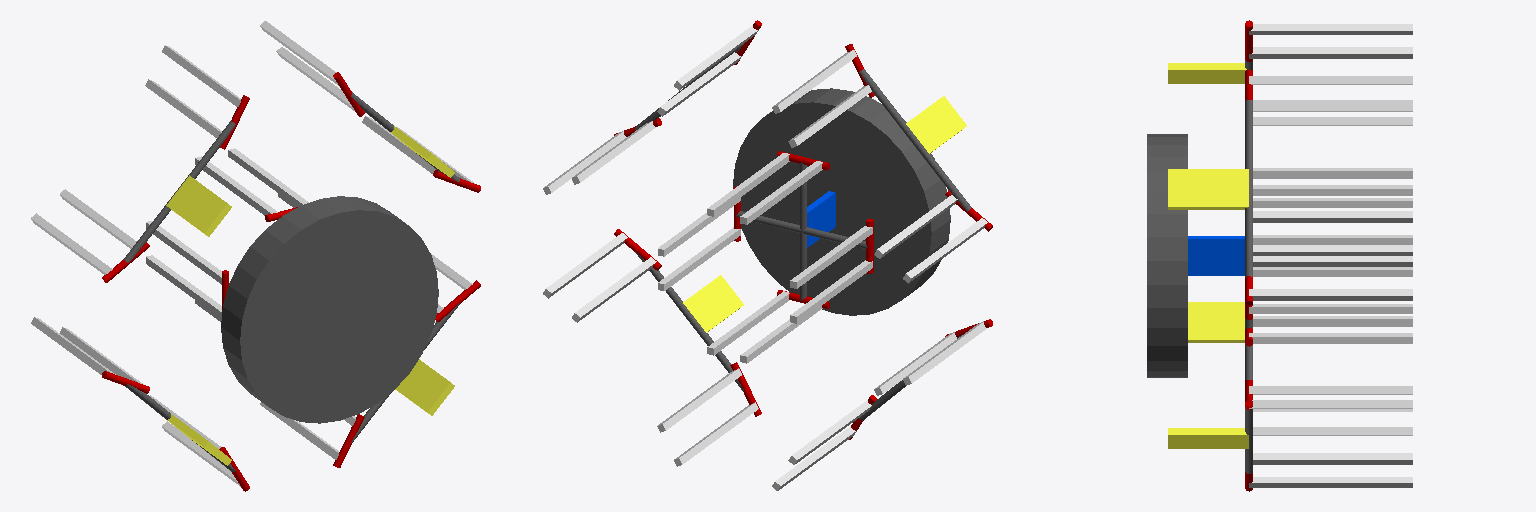
--- Facts derived from the render (not from the file) ---
Views: 3 orthographic renders of the robot side by side, from view 1: azimuth 30°, elevation 25°; view 2: azimuth 150°, elevation 25°; view 3: azimuth 270°, elevation 25°.
Robot: ur5e — 61 links, 60 joints (42 revolute, 5 prismatic, 13 fixed); root link world; default pose: all joints at 0.
Visible links, largest first — view 1: dbase_link, motor_link_2, motor_link_4, bar_link_21, parallel_11_leg1, parallel_12_leg2, parallel_12_leg1, parallel_11_leg2, parallel_22_leg2, parallel_32_leg2, parallel_21_leg1, parallel_22_leg1 (+9 smaller); view 2: dbase_link, motor_link_2, motor_link_4, bar_link_21, parallel_12_leg1, parallel_12_leg2, parallel_14_leg1, parallel_11_leg2, parallel_13_leg2, parallel_11_leg1, motor_link_1, parallel_42_leg2 (+18 smaller); view 3: dbase_link, motor_link_3, motor_link_5, motor_link_1, parallel_31_leg1, parallel_21_leg2, parallel_41_leg2, parallel_51_leg1, parallel_41_leg1, parallel_21_leg1, parallel_14_leg1, parallel_12_leg1 (+18 smaller).
Boxes of the visible links, box(x1,y1,x2,y2) form: dbase_link: box(221, 196, 438, 423); motor_link_2: box(166, 175, 231, 236); motor_link_4: box(395, 359, 454, 415); bar_link_21: box(123, 121, 235, 262); parallel_11_leg1: box(146, 255, 221, 318); parallel_12_leg2: box(228, 148, 308, 206); parallel_12_leg1: box(195, 156, 277, 215); parallel_11_leg2: box(146, 221, 221, 284); parallel_22_leg2: box(31, 213, 112, 274); parallel_32_leg2: box(260, 21, 339, 86); parallel_21_leg1: box(162, 45, 240, 106); parallel_22_leg1: box(60, 189, 136, 248); dbase_link: box(733, 88, 950, 315); motor_link_2: box(906, 96, 966, 153); motor_link_4: box(683, 275, 743, 332); bar_link_21: box(859, 69, 971, 211); parallel_12_leg1: box(740, 161, 822, 224); parallel_12_leg2: box(707, 153, 789, 216); parallel_14_leg1: box(707, 291, 789, 355); parallel_11_leg2: box(790, 226, 872, 288); parallel_13_leg2: box(658, 227, 740, 290); parallel_11_leg1: box(790, 260, 872, 323); motor_link_1: box(807, 191, 835, 247); parallel_42_leg2: box(543, 233, 627, 298); dbase_link: box(1147, 134, 1187, 377); motor_link_3: box(1168, 169, 1248, 209); motor_link_5: box(1188, 302, 1244, 342); motor_link_1: box(1188, 236, 1244, 275); parallel_31_leg1: box(1249, 289, 1412, 300); parallel_21_leg2: box(1249, 47, 1412, 58); parallel_41_leg2: box(1253, 453, 1412, 464); parallel_51_leg1: box(1253, 211, 1412, 222); parallel_41_leg1: box(1249, 477, 1412, 487); parallel_21_leg1: box(1249, 24, 1412, 34); parallel_14_leg1: box(1249, 333, 1412, 343); parallel_12_leg1: box(1253, 168, 1412, 178).
Bounding box of the posed robot: 0.114 × 0.065 × 0.114 m (x, y, z).
0 mesh visuals loaded from 7 distinct referenced files (none loaded); not drawn: 7 (reference not matched to a file when rendering).

robot.urdf — ur5e:
<?xml version="1" ?>
<!-- =================================================================================== -->
<!-- This document is combination of following:  -->

<!-- ur5e.urdf.xacro -->

 <!-- =================================================================================== -->
 <robot name="ur5e" xmlns:xacro="http://ros.org/wiki/xacro">
    <material name="black">
        <color rgba="0 0 0 1"/>
    </material>
    <material name="LightGrey">
        <color rgba="0.7 0.7 0.7 1.0"/>
    </material>
    <material name="darkgrey">
        <color rgba="0.3 0.3 0.3 1"/>
    </material>
    <material name="grey">
        <color rgba="0.5 0.5 0.5 1"/>
    </material>
    <material name="firebrick">
        <color rgba="0.545 0.102 0.102 1"/>
    </material>
    <material name="white">
        <color rgba="0.9 0.9 0.9 1"/>
    </material>
    <material  name="Black" >
     <color  rgba="0 0 0 1" />
    </material>
    <material  name="Blue" >
     <color  rgba="0.0 0.0 0.8 1.0" />
    </material>
    <material  name="Green" >
     <color  rgba="0.0 0.8 0.0 1.0" />
    </material>
    <material  name="Grey" >
     <color  rgba="0.4 0.4 0.4 1.0" />
    </material>
    <material  name="Orange" >
     <color  rgba="1.0 0.4235294117647059 0.0392156862745098 1.0" />
    </material>
    <material  name="Brown" >
     <color  rgba="0.8705882352941177 0.8117647058823529 0.7647058823529411 1.0" />
    </material>
    <material  name="Red" >
     <color  rgba="0.8 0.0 0.0 1.0" />
    </material>
    <material  name="BananaYellow" >
     <color  rgba="0.9803921568627451 0.996078431372549 0.29411764705882354 1.0" />
    </material>
    <material  name="BrightBlue" >
     <color  rgba="0.00392156862745098 0.396078431372549 0.9882352941176471 1.0" />
    </material>
    <material  name="White" >
     <color  rgba="1.0 1.0 1.0 1.0" />
    </material>
   <link name="base_link">
     <visual>
       <geometry>
         <mesh filename="ur5e_robot/collision/base.stl"/>
       </geometry>
       <material name="LightGrey">
         <color rgba="0.7 0.7 0.7 1.0"/>
       </material>
     </visual>
     <collision>
       <geometry>
         <mesh filename="ur5e_robot/collision/base.stl" scale="1.0 1.0 1.0"/>
       </geometry>
     </collision>
     <inertial>
       <mass value="4.0"/>
       <origin rpy="0 0 0" xyz="0.0 0.0 0.0"/>
       <inertia ixx="0.00443333156" ixy="0.0" ixz="0.0" iyy="0.00443333156" iyz="0.0" izz="0.0072"/>
     </inertial>
   </link>
   <joint name="shoulder_pan_joint" type="revolute">
     <parent link="base_link"/>
     <child link="shoulder_link"/>
     <origin rpy="0.0 0.0 0.0" xyz="0.0 0.0 0.163"/>
     <axis xyz="0 0 1"/>
     <limit effort="150.0" lower="-6.28318530718" upper="6.28318530718" velocity="1"/>
     <dynamics damping="0.0" friction="0.0"/>
   </joint>
   <link name="shoulder_link">
     <visual>
       <geometry>
         <mesh filename="ur5e_robot//collision//shoulder.stl"/>
       </geometry>
       <material name="darkgrey"/>
     </visual>
     <collision>
       <geometry>
         <mesh filename="ur5e_robot//collision//shoulder.stl" scale="1.0 1.0 1.0"/>
       </geometry>
     </collision>
     <inertial>
       <mass value="3.7"/>
       <origin rpy="0 0 0" xyz="0.0 0.0 0.0"/>
       <inertia ixx="0.010267495893" ixy="0.0" ixz="0.0" iyy="0.010267495893" iyz="0.0" izz="0.00666"/>
     </inertial>
   </link>
   <joint name="shoulder_lift_joint" type="revolute">
     <parent link="shoulder_link"/>
     <child link="upper_arm_link"/>
     <origin rpy="0.0 1.57079632679 0.0" xyz="0.0 0.138 0.0"/>
     <axis xyz="0 1 0"/>
     <limit effort="150.0" lower="-6.28318530718" upper="6.28318530718" velocity="1"/>
     <dynamics damping="0.0" friction="0.0"/>
   </joint>
   <link name="upper_arm_link">
     <visual>
       <geometry>
         <mesh filename="ur5e_robot//collision//upperarm.stl"/>
       </geometry>
       <material name="LightGrey"/>
     </visual>
     <collision>
       <geometry>
         <mesh filename="ur5e_robot//collision//upperarm.stl" scale="1.0 1.0 1.0"/>
       </geometry>
     </collision>
     <inertial>
       <mass value="8.393"/>
       <origin rpy="0 0 0" xyz="0.0 0.0 0.2125"/>
       <inertia ixx="0.133885781862" ixy="0.0" ixz="0.0" iyy="0.133885781862" iyz="0.0" izz="0.0151074"/>
     </inertial>
   </link>
   <joint name="elbow_joint" type="revolute">
     <parent link="upper_arm_link"/>
     <child link="forearm_link"/>
     <origin rpy="0.0 0.0 0.0" xyz="0.0 -0.131 0.425"/>
     <axis xyz="0 1 0"/>
     <limit effort="150.0" lower="-3.14159265359" upper="3.14159265359" velocity="1"/>
     <dynamics damping="0.0" friction="0.0"/>
   </joint>
   <link name="forearm_link">
     <visual>
       <geometry>
         <mesh filename="ur5e_robot//collision//forearm.stl"/>
       </geometry>
       <material name="LightGrey"/>

     </visual>
     <collision>
       <geometry>
         <mesh filename="ur5e_robot//collision//forearm.stl" scale="1.0 1.0 1.0"/>
       </geometry>
     </collision>
     <inertial>
       <mass value="2.275"/>
       <origin rpy="0 0 0" xyz="0.0 0.0 0.196"/>
       <inertia ixx="0.0311796208615" ixy="0.0" ixz="0.0" iyy="0.0311796208615" iyz="0.0" izz="0.004095"/>
     </inertial>
   </link>
   <joint name="wrist_1_joint" type="revolute">
     <parent link="forearm_link"/>
     <child link="wrist_1_link"/>
     <origin rpy="0.0 1.57079632679 0.0" xyz="0.0 0.0 0.392"/>
     <axis xyz="0 1 0"/>
     <limit effort="28.0" lower="-6.28318530718" upper="6.28318530718" velocity="1"/>
     <dynamics damping="0.0" friction="0.0"/>
   </joint>
   <link name="wrist_1_link">
     <visual>
       <geometry>
         <mesh filename="ur5e_robot//collision//wrist1.stl"/>
       </geometry>
       <material name="darkgrey"/>

     </visual>
     <collision>
       <geometry>
         <mesh filename="ur5e_robot//collision//wrist1.stl" scale="1.0 1.0 1.0"/>
       </geometry>
     </collision>
     <inertial>
       <mass value="1.219"/>
       <origin rpy="0 0 0" xyz="0.0 0.127 0.0"/>
       <inertia ixx="0.00255989897604" ixy="0.0" ixz="0.0" iyy="0.00255989897604" iyz="0.0" izz="0.0021942"/>
     </inertial>
   </link>
   <joint name="wrist_2_joint" type="revolute">
     <parent link="wrist_1_link"/>
     <child link="wrist_2_link"/>
     <origin rpy="0.0 0.0 0.0" xyz="0.0 0.127 0.0"/>
     <axis xyz="0 0 1"/>
     <limit effort="28.0" lower="-6.28318530718" upper="6.28318530718" velocity="1"/>
     <dynamics damping="0.0" friction="0.0"/>
   </joint>
   <link name="wrist_2_link">
     <visual>
       <geometry>
         <mesh filename="ur5e_robot//collision//wrist2.stl"/>
       </geometry>
       <material name="darkgrey"/>
     </visual>
     <collision>
       <geometry>
         <mesh filename="ur5e_robot//collision//wrist2.stl" scale="1.0 1.0 1.0"/>
       </geometry>
     </collision>
     <inertial>
       <mass value="1.219"/>
       <origin rpy="0 0 0" xyz="0.0 0.0 0.1"/>
       <inertia ixx="0.00255989897604" ixy="0.0" ixz="0.0" iyy="0.00255989897604" iyz="0.0" izz="0.0021942"/>
     </inertial>
   </link>
   <joint name="wrist_3_joint" type="revolute">
     <parent link="wrist_2_link"/>
     <child link="wrist_3_link"/>
     <origin rpy="0.0 0.0 0.0" xyz="0.0 0.0 0.1"/>
     <axis xyz="0 1 0"/>
     <limit effort="28.0" lower="-6.28318530718" upper="6.28318530718" velocity="1"/>
     <dynamics damping="0.0" friction="0.0"/>
   </joint>
   <link name="wrist_3_link">
     <visual>
       <geometry>
         <mesh filename="ur5e_robot//collision//wrist3.stl"/>
       </geometry>
       <material name="LightGrey"/>
     </visual>
     <collision>
       <geometry>
         <mesh filename="ur5e_robot//collision//wrist3.stl" scale="1.0 1.0 1.0"/>
       </geometry>
     </collision>
     <inertial>
       <mass value="0.1879"/>
       <origin rpy="1.57079632679 0 0" xyz="0.0 0.0771 0.0"/>
       <inertia ixx="9.89041005217e-05" ixy="0.0" ixz="0.0" iyy="9.89041005217e-05" iyz="0.0" izz="0.0001321171875"/>
     </inertial>
   </link>
   <joint name="ee_link" type="fixed">
     <parent link="wrist_3_link"/>
     <child link="ee_link"/>
     <origin rpy="0.0 0.0 1.57079632679" xyz="0.0 0.1 0.0"/>
   </joint>
   <link name="ee_link">
     <collision>
       <geometry>
         <box size="0.01 0.01 0.01"/>
       </geometry>
       <origin rpy="0 0 0" xyz="-0.01 0 0"/>
     </collision>
   </link>
   <transmission name="shoulder_pan_trans">
     <type>transmission_interface/SimpleTransmission</type>
     <joint name="shoulder_pan_joint">
       <hardwareInterface>hardware_interface/PositionJointInterface</hardwareInterface>
     </joint>
     <actuator name="shoulder_pan_motor">
       <mechanicalReduction>1</mechanicalReduction>
     </actuator>
   </transmission>
   <transmission name="shoulder_lift_trans">
     <type>transmission_interface/SimpleTransmission</type>
     <joint name="shoulder_lift_joint">
       <hardwareInterface>hardware_interface/PositionJointInterface</hardwareInterface>
     </joint>
     <actuator name="shoulder_lift_motor">
       <mechanicalReduction>1</mechanicalReduction>
     </actuator>
   </transmission>
   <transmission name="elbow_trans">
     <type>transmission_interface/SimpleTransmission</type>
     <joint name="elbow_joint">
       <hardwareInterface>hardware_interface/PositionJointInterface</hardwareInterface>
     </joint>
     <actuator name="elbow_motor">
       <mechanicalReduction>1</mechanicalReduction>
     </actuator>
   </transmission>
   <transmission name="wrist_1_trans">
     <type>transmission_interface/SimpleTransmission</type>
     <joint name="wrist_1_joint">
       <hardwareInterface>hardware_interface/PositionJointInterface</hardwareInterface>
     </joint>
     <actuator name="wrist_1_motor">
       <mechanicalReduction>1</mechanicalReduction>
     </actuator>
   </transmission>
   <transmission name="wrist_2_trans">
     <type>transmission_interface/SimpleTransmission</type>
     <joint name="wrist_2_joint">
       <hardwareInterface>hardware_interface/PositionJointInterface</hardwareInterface>
     </joint>
     <actuator name="wrist_2_motor">
       <mechanicalReduction>1</mechanicalReduction>
     </actuator>
   </transmission>
   <transmission name="wrist_3_trans">
     <type>transmission_interface/SimpleTransmission</type>
     <joint name="wrist_3_joint">
       <hardwareInterface>hardware_interface/PositionJointInterface</hardwareInterface>
     </joint>
     <actuator name="wrist_3_motor">
       <mechanicalReduction>1</mechanicalReduction>
     </actuator>
   </transmission>
   <gazebo reference="shoulder_link">
     <selfCollide>true</selfCollide>
   </gazebo>
   <gazebo reference="upper_arm_link">
     <selfCollide>true</selfCollide>
   </gazebo>
   <gazebo reference="forearm_link">
     <selfCollide>true</selfCollide>
   </gazebo>
   <gazebo reference="wrist_1_link">
     <selfCollide>true</selfCollide>
   </gazebo>
   <gazebo reference="wrist_3_link">
     <selfCollide>true</selfCollide>
   </gazebo>
   <gazebo reference="wrist_2_link">
     <selfCollide>true</selfCollide>
   </gazebo>
   <gazebo reference="ee_link">
     <selfCollide>true</selfCollide>
   </gazebo>
   <!-- ROS base_link to UR 'Base' Coordinates transform -->
   <link name="base"/>
   <joint name="base_link-base_fixed_joint" type="fixed">
     <!-- NOTE: this rotation is only needed as long as base_link itself is
                  not corrected wrt the real robot (ie: rotated over 180
                  degrees)
       -->
     <origin rpy="0 0 -3.14159265359" xyz="0 0 0"/>
     <parent link="base_link"/>
     <child link="base"/>
   </joint>
   <!-- Frame coincident with all-zeros TCP on UR controller -->
   <link name="tool0"/>
   <joint name="wrist_3_link-tool0_fixed_joint" type="fixed">
     <origin rpy="-1.57079632679 0 0" xyz="0 0.1 0"/>
     <parent link="wrist_3_link"/>
     <child link="tool0"/>
   </joint>
   <link name="world"/>
   <joint name="world_joint" type="fixed">
     <parent link="world"/>
     <child link="base_link"/>
     <origin rpy="0.0 0.0 0.0" xyz="0.0 0.0 0.0"/>
   </joint>

   <!-- delta.urdf -->
   <joint  type="fixed"  name="base_joint" >
    <parent  link="ee_link" />
    <child  link="dbase_link" />
    <origin  rpy="0 1.57079632679 0"  xyz="0 0.0 0" />
   </joint>
   <link  name="dbase_link" >
    <inertial >
     <mass  value="0.01" />
     <inertia  iyz="0.0"  iyy="0.001"  ixx="0.001"  ixz="0.0"  izz="0.001"  ixy="0.0" />
    </inertial>
    <visual >
     <origin  rpy="0 0 0"  xyz="0 0 0" />
     <geometry >
      <cylinder  radius="0.03"  length="0.01" />
     </geometry>
     <material  name="Grey" />
    </visual>
    <collision >
     <origin  rpy="0 0 0"  xyz="0 0 0" />
     <geometry >
      <cylinder  radius="0.03"  length="0.01" />
     </geometry>
     <material  name="Grey" />
    </collision>
   </link>
   <joint  name="motor_joint_1"  type="prismatic" >
    <axis  xyz="0 0 1" />
    <limit  velocity="1"  effort="100"  lower="0.0"  upper="0.1" />
    <parent  link="dbase_link" />
    <child  link="motor_link_1" />
    <origin  rpy="0 0 0"  xyz="0 0 0" />
   </joint>
   <link  name="motor_link_1" >
    <inertial >
     <mass  value="0.01" />
     <inertia  iyz="0.0"  iyy="0.001"  ixx="0.001"  ixz="0.0"  izz="0.001"  ixy="0.0" />
    </inertial>
    <visual >
     <origin  rpy="0 0 0"  xyz="0 0 0.01" />
     <geometry >
      <box  size="0.01 0.002 0.02" />
     </geometry>
     <material  name="BrightBlue" />
    </visual>
    <collision >
     <origin  rpy="0 0 0"  xyz="0 0 0.01" />
     <geometry >
      <box  size="0.01 0.002 0.02" />
     </geometry>
     <material  name="BrightBlue" />
    </collision>
   </link>
   <joint  name="motor_joint_2"  type="prismatic" >
    <axis  xyz="0 0 1" />
    <limit  velocity="1"  effort="100"  lower="0.0"  upper="0.1" />
    <parent  link="dbase_link" />
    <child  link="motor_link_2" />
    <origin  rpy="0 0 -2.356194490192345"  xyz="0.03366025403784439 -0.03366025403784439 0.0" />
   </joint>
   <link  name="motor_link_2" >
    <inertial >
     <mass  value="0.01" />
     <inertia  iyz="0.0"  iyy="0.001"  ixx="0.001"  ixz="0.0"  izz="0.001"  ixy="0.0" />
    </inertial>
    <visual >
     <origin  rpy="0 0 0"  xyz="0 0 0.01" />
     <geometry >
      <box  size="0.01 0.002 0.02" />
     </geometry>
     <material  name="BananaYellow" />
    </visual>
    <collision >
     <origin  rpy="0 0 0"  xyz="0 0 0.01" />
     <geometry >
      <box  size="0.01 0.002 0.02" />
     </geometry>
     <material  name="BananaYellow" />
    </collision>
   </link>
   <joint  name="motor_joint_3"  type="prismatic" >
    <axis  xyz="0 0 1" />
    <limit  velocity="1"  effort="100"  lower="0.0"  upper="0.1" />
    <parent  link="dbase_link" />
    <child  link="motor_link_3" />
    <origin  rpy="0 0 -0.7853981633974483"  xyz="0.03366025403784439 0.03366025403784439 0.0" />
   </joint>
   <link  name="motor_link_3" >
    <inertial >
     <mass  value="0.01" />
     <inertia  iyz="0.0"  iyy="0.001"  ixx="0.001"  ixz="0.0"  izz="0.001"  ixy="0.0" />
    </inertial>
    <visual >
     <origin  rpy="0 0 0"  xyz="0 0 0.01" />
     <geometry >
      <box  size="0.01 0.002 0.02" />
     </geometry>
     <material  name="BananaYellow" />
    </visual>
    <collision >
     <origin  rpy="0 0 0"  xyz="0 0 0.01" />
     <geometry >
      <box  size="0.01 0.002 0.02" />
     </geometry>
     <material  name="BananaYellow" />
    </collision>
   </link>
   <joint  name="motor_joint_4"  type="prismatic" >
    <axis  xyz="0 0 1" />
    <limit  velocity="1"  effort="100"  lower="0.0"  upper="0.1" />
    <parent  link="dbase_link" />
    <child  link="motor_link_4" />
    <origin  rpy="0 0 0.7853981633974483"  xyz="-0.03366025403784439 0.03366025403784439 0.0" />
   </joint>
   <link  name="motor_link_4" >
    <inertial >
     <mass  value="0.01" />
     <inertia  iyz="0.0"  iyy="0.001"  ixx="0.001"  ixz="0.0"  izz="0.001"  ixy="0.0" />
    </inertial>
    <visual >
     <origin  rpy="0 0 0"  xyz="0 0 0.01" />
     <geometry >
      <box  size="0.01 0.002 0.02" />
     </geometry>
     <material  name="BananaYellow" />
    </visual>
    <collision >
     <origin  rpy="0 0 0"  xyz="0 0 0.01" />
     <geometry >
      <box  size="0.01 0.002 0.02" />
     </geometry>
     <material  name="BananaYellow" />
    </collision>
   </link>
   <joint  name="motor_joint_5"  type="prismatic" >
    <axis  xyz="0 0 1" />
    <limit  velocity="1"  effort="100"  lower="0.0"  upper="0.1" />
    <parent  link="dbase_link" />
    <child  link="motor_link_5" />
    <origin  rpy="0 0 2.356194490192345"  xyz="-0.03366025403784439 -0.03366025403784439 0.0" />
   </joint>
   <link  name="motor_link_5" >
    <inertial >
     <mass  value="0.01" />
     <inertia  iyz="0.0"  iyy="0.001"  ixx="0.001"  ixz="0.0"  izz="0.001"  ixy="0.0" />
    </inertial>
    <visual >
     <origin  rpy="0 0 0"  xyz="0 0 0.01" />
     <geometry >
      <box  size="0.01 0.002 0.02" />
     </geometry>
     <material  name="BananaYellow" />
    </visual>
    <collision >
     <origin  rpy="0 0 0"  xyz="0 0 0.01" />
     <geometry >
      <box  size="0.01 0.002 0.02" />
     </geometry>
     <material  name="BananaYellow" />
    </collision>
   </link>
   <joint  name="bar_joint_1"  type="fixed" >
    <parent  link="motor_link_1" />
    <child  link="bar_link_1" />
    <origin  rpy="1.5707963267948966 0 0.0"  xyz="0 0 0.02" />
   </joint>
   <link  name="bar_link_1" >
    <inertial >
     <mass  value="0.01" />
     <inertia  iyz="0.0"  iyy="0.001"  ixx="0.001"  ixz="0.0"  izz="0.001"  ixy="0.0" />
    </inertial>
    <visual >
     <origin  rpy="0 0 0"  xyz="0 0 0.01" />
     <geometry >
      <cylinder  radius="0.001"  length="0.02" />
     </geometry>
     <material  name="Grey" />
    </visual>
    <collision >
     <origin  rpy="0 0 0"  xyz="0 0 0.01" />
     <geometry >
      <cylinder  radius="0.001"  length="0.02" />
     </geometry>
     <material  name="Grey" />
    </collision>
   </link>
   <joint  name="bar_joint_2"  type="fixed" >
    <parent  link="motor_link_1" />
    <child  link="bar_link_2" />
    <origin  rpy="1.5707963267948966 0 1.5707963267948966"  xyz="0 0 0.02" />
   </joint>
   <link  name="bar_link_2" >
    <inertial >
     <mass  value="0.01" />
     <inertia  iyz="0.0"  iyy="0.001"  ixx="0.001"  ixz="0.0"  izz="0.001"  ixy="0.0" />
    </inertial>
    <visual >
     <origin  rpy="0 0 0"  xyz="0 0 0.01" />
     <geometry >
      <cylinder  radius="0.001"  length="0.02" />
     </geometry>
     <material  name="Grey" />
    </visual>
    <collision >
     <origin  rpy="0 0 0"  xyz="0 0 0.01" />
     <geometry >
      <cylinder  radius="0.001"  length="0.02" />
     </geometry>
     <material  name="Grey" />
    </collision>
   </link>
   <joint  name="bar_joint_3"  type="fixed" >
    <parent  link="motor_link_1" />
    <child  link="bar_link_3" />
    <origin  rpy="1.5707963267948966 0 3.141592653589793"  xyz="0 0 0.02" />
   </joint>
   <link  name="bar_link_3" >
    <inertial >
     <mass  value="0.01" />
     <inertia  iyz="0.0"  iyy="0.001"  ixx="0.001"  ixz="0.0"  izz="0.001"  ixy="0.0" />
    </inertial>
    <visual >
     <origin  rpy="0 0 0"  xyz="0 0 0.01" />
     <geometry >
      <cylinder  radius="0.001"  length="0.02" />
     </geometry>
     <material  name="Grey" />
    </visual>
    <collision >
     <origin  rpy="0 0 0"  xyz="0 0 0.01" />
     <geometry >
      <cylinder  radius="0.001"  length="0.02" />
     </geometry>
     <material  name="Grey" />
    </collision>
   </link>
   <joint  name="bar_joint_4"  type="fixed" >
    <parent  link="motor_link_1" />
    <child  link="bar_link_4" />
    <origin  rpy="1.5707963267948966 0 -1.5707963267948966"  xyz="0 0 0.02" />
   </joint>
   <link  name="bar_link_4" >
    <inertial >
     <mass  value="0.01" />
     <inertia  iyz="0.0"  iyy="0.001"  ixx="0.001"  ixz="0.0"  izz="0.001"  ixy="0.0" />
    </inertial>
    <visual >
     <origin  rpy="0 0 0"  xyz="0 0 0.01" />
     <geometry >
      <cylinder  radius="0.001"  length="0.02" />
     </geometry>
     <material  name="Grey" />
    </visual>
    <collision >
     <origin  rpy="0 0 0"  xyz="0 0 0.01" />
     <geometry >
      <cylinder  radius="0.001"  length="0.02" />
     </geometry>
     <material  name="Grey" />
    </collision>
   </link>
   <joint  name="parallel_11_kneejoint"  type="revolute" >
    <axis  xyz="1 0 0" />
    <limit  velocity="1"  effort="100"  lower="-3.141592653589793"  upper="3.141592653589793" />
    <parent  link="bar_link_1" />
    <child  link="parallel_11_knee" />
    <origin  rpy="-1.5707963267948966 0 0"  xyz="0 0 0.02" />
   </joint>
   <link  name="parallel_11_knee" >
    <inertial >
     <mass  value="0.01" />
     <inertia  iyz="0.0"  iyy="0.001"  ixx="0.001"  ixz="0.0"  izz="0.001"  ixy="0.0" />
    </inertial>
    <visual >
     <origin  rpy="0 1.5707963267948966 0"  xyz="0 0 0" />
     <geometry >
      <cylinder  radius="0.001"  length="0.015" />
     </geometry>
     <material  name="Red" />
    </visual>
    <collision >
     <origin  rpy="0 1.5707963267948966 0"  xyz="0 0 0" />
     <geometry >
      <cylinder  radius="0.001"  length="0.015" />
     </geometry>
     <material  name="Red" />
    </collision>
   </link>
   <joint  name="parallel_11_legjoint1"  type="revolute" >
    <axis  xyz="0 1 0" />
    <limit  velocity="1"  effort="100"  lower="-1.5707963267948966"  upper="1.5707963267948966" />
    <parent  link="parallel_11_knee" />
    <child  link="parallel_11_leg1" />
    <origin  rpy="0 0 0"  xyz="-0.005 0 0" />
   </joint>
   <joint  name="parallel_11_legjoint2"  type="revolute" >
    <axis  xyz="0 1 0" />
    <limit  velocity="1"  effort="100"  lower="-1.5707963267948966"  upper="1.5707963267948966" />
    <parent  link="parallel_11_knee" />
    <child  link="parallel_11_leg2" />
    <origin  rpy="0 0 0"  xyz="0.005 0 0" />
   </joint>
   <link  name="parallel_11_leg1" >
    <inertial >
     <mass  value="0.01" />
     <inertia  iyz="0.0"  iyy="0.001"  ixx="0.001"  ixz="0.0"  izz="0.001"  ixy="0.0" />
    </inertial>
    <visual >
     <origin  rpy="0 0 0"  xyz="0 0 0.02" />
     <geometry >
      <box  size="0.002 0.002 0.04" />
     </geometry>
     <material  name="white" />
    </visual>
    <collision >
     <origin  rpy="0 0 0"  xyz="0 0 0.02" />
     <geometry >
      <box  size="0.002 0.002 0.04" />
     </geometry>
     <material  name="white" />
    </collision>
   </link>
   <link  name="parallel_11_leg2" >
    <inertial >
     <mass  value="0.01" />
     <inertia  iyz="0.0"  iyy="0.001"  ixx="0.001"  ixz="0.0"  izz="0.001"  ixy="0.0" />
    </inertial>
    <visual >
     <origin  rpy="0 0 0"  xyz="0 0 0.02" />
     <geometry >
      <box  size="0.002 0.002 0.04" />
     </geometry>
     <material  name="white" />
    </visual>
    <collision >
     <origin  rpy="0 0 0"  xyz="0 0 0.02" />
     <geometry >
      <box  size="0.002 0.002 0.04" />
     </geometry>
     <material  name="white" />
    </collision>
   </link>
   <joint  name="parallel_12_kneejoint"  type="revolute" >
    <axis  xyz="1 0 0" />
    <limit  velocity="1"  effort="100"  lower="-3.141592653589793"  upper="3.141592653589793" />
    <parent  link="bar_link_2" />
    <child  link="parallel_12_knee" />
    <origin  rpy="-1.5707963267948966 0 0"  xyz="0 0 0.02" />
   </joint>
   <link  name="parallel_12_knee" >
    <inertial >
     <mass  value="0.01" />
     <inertia  iyz="0.0"  iyy="0.001"  ixx="0.001"  ixz="0.0"  izz="0.001"  ixy="0.0" />
    </inertial>
    <visual >
     <origin  rpy="0 1.5707963267948966 0"  xyz="0 0 0" />
     <geometry >
      <cylinder  radius="0.001"  length="0.015" />
     </geometry>
     <material  name="Red" />
    </visual>
    <collision >
     <origin  rpy="0 1.5707963267948966 0"  xyz="0 0 0" />
     <geometry >
      <cylinder  radius="0.001"  length="0.015" />
     </geometry>
     <material  name="Red" />
    </collision>
   </link>
   <joint  name="parallel_12_legjoint1"  type="revolute" >
    <axis  xyz="0 1 0" />
    <limit  velocity="1"  effort="100"  lower="-1.5707963267948966"  upper="1.5707963267948966" />
    <parent  link="parallel_12_knee" />
    <child  link="parallel_12_leg1" />
    <origin  rpy="0 0 0"  xyz="-0.005 0 0" />
   </joint>
   <joint  name="parallel_12_legjoint2"  type="revolute" >
    <axis  xyz="0 1 0" />
    <limit  velocity="1"  effort="100"  lower="-1.5707963267948966"  upper="1.5707963267948966" />
    <parent  link="parallel_12_knee" />
    <child  link="parallel_12_leg2" />
    <origin  rpy="0 0 0"  xyz="0.005 0 0" />
   </joint>
   <link  name="parallel_12_leg1" >
    <inertial >
     <mass  value="0.01" />
     <inertia  iyz="0.0"  iyy="0.001"  ixx="0.001"  ixz="0.0"  izz="0.001"  ixy="0.0" />
    </inertial>
    <visual >
     <origin  rpy="0 0 0"  xyz="0 0 0.02" />
     <geometry >
      <box  size="0.002 0.002 0.04" />
     </geometry>
     <material  name="white" />
    </visual>
    <collision >
     <origin  rpy="0 0 0"  xyz="0 0 0.02" />
     <geometry >
      <box  size="0.002 0.002 0.04" />
     </geometry>
     <material  name="white" />
    </collision>
   </link>
   <link  name="parallel_12_leg2" >
    <inertial >
     <mass  value="0.01" />
     <inertia  iyz="0.0"  iyy="0.001"  ixx="0.001"  ixz="0.0"  izz="0.001"  ixy="0.0" />
    </inertial>
    <visual >
     <origin  rpy="0 0 0"  xyz="0 0 0.02" />
     <geometry >
      <box  size="0.002 0.002 0.04" />
     </geometry>
     <material  name="white" />
    </visual>
    <collision >
     <origin  rpy="0 0 0"  xyz="0 0 0.02" />
     <geometry >
      <box  size="0.002 0.002 0.04" />
     </geometry>
     <material  name="white" />
    </collision>
   </link>
   <joint  name="parallel_13_kneejoint"  type="revolute" >
    <axis  xyz="1 0 0" />
    <limit  velocity="1"  effort="100"  lower="-3.141592653589793"  upper="3.141592653589793" />
    <parent  link="bar_link_3" />
    <child  link="parallel_13_knee" />
    <origin  rpy="-1.5707963267948966 0 0"  xyz="0 0 0.02" />
   </joint>
   <link  name="parallel_13_knee" >
    <inertial >
     <mass  value="0.01" />
     <inertia  iyz="0.0"  iyy="0.001"  ixx="0.001"  ixz="0.0"  izz="0.001"  ixy="0.0" />
    </inertial>
    <visual >
     <origin  rpy="0 1.5707963267948966 0"  xyz="0 0 0" />
     <geometry >
      <cylinder  radius="0.001"  length="0.015" />
     </geometry>
     <material  name="Red" />
    </visual>
    <collision >
     <origin  rpy="0 1.5707963267948966 0"  xyz="0 0 0" />
     <geometry >
      <cylinder  radius="0.001"  length="0.015" />
     </geometry>
     <material  name="Red" />
    </collision>
   </link>
   <joint  name="parallel_13_legjoint1"  type="revolute" >
    <axis  xyz="0 1 0" />
    <limit  velocity="1"  effort="100"  lower="-1.5707963267948966"  upper="1.5707963267948966" />
    <parent  link="parallel_13_knee" />
    <child  link="parallel_13_leg1" />
    <origin  rpy="0 0 0"  xyz="-0.005 0 0" />
   </joint>
   <joint  name="parallel_13_legjoint2"  type="revolute" >
    <axis  xyz="0 1 0" />
    <limit  velocity="1"  effort="100"  lower="-1.5707963267948966"  upper="1.5707963267948966" />
    <parent  link="parallel_13_knee" />
    <child  link="parallel_13_leg2" />
    <origin  rpy="0 0 0"  xyz="0.005 0 0" />
   </joint>
   <link  name="parallel_13_leg1" >
    <inertial >
     <mass  value="0.01" />
     <inertia  iyz="0.0"  iyy="0.001"  ixx="0.001"  ixz="0.0"  izz="0.001"  ixy="0.0" />
    </inertial>
    <visual >
     <origin  rpy="0 0 0"  xyz="0 0 0.02" />
     <geometry >
      <box  size="0.002 0.002 0.04" />
     </geometry>
     <material  name="white" />
    </visual>
    <collision >
     <origin  rpy="0 0 0"  xyz="0 0 0.02" />
     <geometry >
      <box  size="0.002 0.002 0.04" />
     </geometry>
     <material  name="white" />
    </collision>
   </link>
   <link  name="parallel_13_leg2" >
    <inertial >
     <mass  value="0.01" />
     <inertia  iyz="0.0"  iyy="0.001"  ixx="0.001"  ixz="0.0"  izz="0.001"  ixy="0.0" />
    </inertial>
    <visual >
     <origin  rpy="0 0 0"  xyz="0 0 0.02" />
     <geometry >
      <box  size="0.002 0.002 0.04" />
     </geometry>
     <material  name="white" />
    </visual>
    <collision >
     <origin  rpy="0 0 0"  xyz="0 0 0.02" />
     <geometry >
      <box  size="0.002 0.002 0.04" />
     </geometry>
     <material  name="white" />
    </collision>
   </link>
   <joint  name="parallel_14_kneejoint"  type="revolute" >
    <axis  xyz="1 0 0" />
    <limit  velocity="1"  effort="100"  lower="-3.141592653589793"  upper="3.141592653589793" />
    <parent  link="bar_link_4" />
    <child  link="parallel_14_knee" />
    <origin  rpy="-1.5707963267948966 0 0"  xyz="0 0 0.02" />
   </joint>
   <link  name="parallel_14_knee" >
    <inertial >
     <mass  value="0.01" />
     <inertia  iyz="0.0"  iyy="0.001"  ixx="0.001"  ixz="0.0"  izz="0.001"  ixy="0.0" />
    </inertial>
    <visual >
     <origin  rpy="0 1.5707963267948966 0"  xyz="0 0 0" />
     <geometry >
      <cylinder  radius="0.001"  length="0.015" />
     </geometry>
     <material  name="Red" />
    </visual>
    <collision >
     <origin  rpy="0 1.5707963267948966 0"  xyz="0 0 0" />
     <geometry >
      <cylinder  radius="0.001"  length="0.015" />
     </geometry>
     <material  name="Red" />
    </collision>
   </link>
   <joint  name="parallel_14_legjoint1"  type="revolute" >
    <axis  xyz="0 1 0" />
    <limit  velocity="1"  effort="100"  lower="-1.5707963267948966"  upper="1.5707963267948966" />
    <parent  link="parallel_14_knee" />
    <child  link="parallel_14_leg1" />
    <origin  rpy="0 0 0"  xyz="-0.005 0 0" />
   </joint>
   <joint  name="parallel_14_legjoint2"  type="revolute" >
    <axis  xyz="0 1 0" />
    <limit  velocity="1"  effort="100"  lower="-1.5707963267948966"  upper="1.5707963267948966" />
    <parent  link="parallel_14_knee" />
    <child  link="parallel_14_leg2" />
    <origin  rpy="0 0 0"  xyz="0.005 0 0" />
   </joint>
   <link  name="parallel_14_leg1" >
    <inertial >
     <mass  value="0.01" />
     <inertia  iyz="0.0"  iyy="0.001"  ixx="0.001"  ixz="0.0"  izz="0.001"  ixy="0.0" />
    </inertial>
    <visual >
     <origin  rpy="0 0 0"  xyz="0 0 0.02" />
     <geometry >
      <box  size="0.002 0.002 0.04" />
     </geometry>
     <material  name="white" />
    </visual>
    <collision >
     <origin  rpy="0 0 0"  xyz="0 0 0.02" />
     <geometry >
      <box  size="0.002 0.002 0.04" />
     </geometry>
     <material  name="white" />
    </collision>
   </link>
   <link  name="parallel_14_leg2" >
    <inertial >
     <mass  value="0.01" />
     <inertia  iyz="0.0"  iyy="0.001"  ixx="0.001"  ixz="0.0"  izz="0.001"  ixy="0.0" />
    </inertial>
    <visual >
     <origin  rpy="0 0 0"  xyz="0 0 0.02" />
     <geometry >
      <box  size="0.002 0.002 0.04" />
     </geometry>
     <material  name="white" />
    </visual>
    <collision >
     <origin  rpy="0 0 0"  xyz="0 0 0.02" />
     <geometry >
      <box  size="0.002 0.002 0.04" />
     </geometry>
     <material  name="white" />
    </collision>
   </link>
   <joint  name="bar_joint_21"  type="fixed" >
    <parent  link="motor_link_2" />
    <child  link="bar_link_21" />
    <origin  rpy="1.5707963267948966 0 1.5707963267948966"  xyz="0 0 0.02" />
   </joint>
   <link  name="bar_link_21" >
    <inertial >
     <mass  value="0.01" />
     <inertia  iyz="0.0"  iyy="0.001"  ixx="0.001"  ixz="0.0"  izz="0.001"  ixy="0.0" />
    </inertial>
    <visual >
     <origin  rpy="0 0 0"  xyz="0 0 0.0" />
     <geometry >
      <cylinder  radius="0.001"  length="0.046215780690822966" />
     </geometry>
     <material  name="Grey" />
    </visual>
    <collision >
     <origin  rpy="0 0 0"  xyz="0 0 0.0" />
     <geometry >
      <cylinder  radius="0.001"  length="0.046215780690822966" />
     </geometry>
     <material  name="Grey" />
    </collision>
   </link>
   <joint  name="parallel_21_kneejoint"  type="revolute" >
    <axis  xyz="1 0 0" />
    <limit  velocity="1"  effort="100"  lower="-3.141592653589793"  upper="3.141592653589793" />
    <parent  link="bar_link_21" />
    <child  link="parallel_21_knee" />
    <origin  rpy="-1.5707963267948966 -1.8325957145940461 0"  xyz="0 0 -0.023107890345411483" />
   </joint>
   <link  name="parallel_21_knee" >
    <inertial >
     <mass  value="0.01" />
     <inertia  iyz="0.0"  iyy="0.001"  ixx="0.001"  ixz="0.0"  izz="0.001"  ixy="0.0" />
    </inertial>
    <visual >
     <origin  rpy="0 1.5707963267948966 0"  xyz="0 0 0" />
     <geometry >
      <cylinder  radius="0.001"  length="0.015" />
     </geometry>
     <material  name="Red" />
    </visual>
    <collision >
     <origin  rpy="0 1.5707963267948966 0"  xyz="0 0 0" />
     <geometry >
      <cylinder  radius="0.001"  length="0.015" />
     </geometry>
     <material  name="Red" />
    </collision>
   </link>
   <joint  name="parallel_21_legjoint1"  type="revolute" >
    <axis  xyz="0 1 0" />
    <limit  velocity="1"  effort="100"  lower="-1.5707963267948966"  upper="1.5707963267948966" />
    <parent  link="parallel_21_knee" />
    <child  link="parallel_21_leg1" />
    <origin  rpy="0 0 0"  xyz="-0.005 0 0" />
   </joint>
   <joint  name="parallel_21_legjoint2"  type="revolute" >
    <axis  xyz="0 1 0" />
    <limit  velocity="1"  effort="100"  lower="-1.5707963267948966"  upper="1.5707963267948966" />
    <parent  link="parallel_21_knee" />
    <child  link="parallel_21_leg2" />
    <origin  rpy="0 0 0"  xyz="0.005 0 0" />
   </joint>
   <link  name="parallel_21_leg1" >
    <inertial >
     <mass  value="0.01" />
     <inertia  iyz="0.0"  iyy="0.001"  ixx="0.001"  ixz="0.0"  izz="0.001"  ixy="0.0" />
    </inertial>
    <visual >
     <origin  rpy="0 0 0"  xyz="0 0 0.02" />
     <geometry >
      <box  size="0.002 0.002 0.04" />
     </geometry>
     <material  name="white" />
    </visual>
    <collision >
     <origin  rpy="0 0 0"  xyz="0 0 0.02" />
     <geometry >
      <box  size="0.002 0.002 0.04" />
     </geometry>
     <material  name="white" />
    </collision>
   </link>
   <link  name="parallel_21_leg2" >
    <inertial >
     <mass  value="0.01" />
     <inertia  iyz="0.0"  iyy="0.001"  ixx="0.001"  ixz="0.0"  izz="0.001"  ixy="0.0" />
    </inertial>
    <visual >
     <origin  rpy="0 0 0"  xyz="0 0 0.02" />
     <geometry >
      <box  size="0.002 0.002 0.04" />
     </geometry>
     <material  name="white" />
    </visual>
    <collision >
     <origin  rpy="0 0 0"  xyz="0 0 0.02" />
     <geometry >
      <box  size="0.002 0.002 0.04" />
     </geometry>
     <material  name="white" />
    </collision>
   </link>
   <joint  name="parallel_22_kneejoint"  type="revolute" >
    <axis  xyz="1 0 0" />
    <limit  velocity="1"  effort="100"  lower="-3.141592653589793"  upper="3.141592653589793" />
    <parent  link="bar_link_21" />
    <child  link="parallel_22_knee" />
    <origin  rpy="-1.5707963267948966 -1.3089969389957472 0"  xyz="0 0 0.023107890345411483" />
   </joint>
   <link  name="parallel_22_knee" >
    <inertial >
     <mass  value="0.01" />
     <inertia  iyz="0.0"  iyy="0.001"  ixx="0.001"  ixz="0.0"  izz="0.001"  ixy="0.0" />
    </inertial>
    <visual >
     <origin  rpy="0 1.5707963267948966 0"  xyz="0 0 0" />
     <geometry >
      <cylinder  radius="0.001"  length="0.015" />
     </geometry>
     <material  name="Red" />
    </visual>
    <collision >
     <origin  rpy="0 1.5707963267948966 0"  xyz="0 0 0" />
     <geometry >
      <cylinder  radius="0.001"  length="0.015" />
     </geometry>
     <material  name="Red" />
    </collision>
   </link>
   <joint  name="parallel_22_legjoint1"  type="revolute" >
    <axis  xyz="0 1 0" />
    <limit  velocity="1"  effort="100"  lower="-1.5707963267948966"  upper="1.5707963267948966" />
    <parent  link="parallel_22_knee" />
    <child  link="parallel_22_leg1" />
    <origin  rpy="0 0 0"  xyz="-0.005 0 0" />
   </joint>
   <joint  name="parallel_22_legjoint2"  type="revolute" >
    <axis  xyz="0 1 0" />
    <limit  velocity="1"  effort="100"  lower="-1.5707963267948966"  upper="1.5707963267948966" />
    <parent  link="parallel_22_knee" />
    <child  link="parallel_22_leg2" />
    <origin  rpy="0 0 0"  xyz="0.005 0 0" />
   </joint>
   <link  name="parallel_22_leg1" >
    <inertial >
     <mass  value="0.01" />
     <inertia  iyz="0.0"  iyy="0.001"  ixx="0.001"  ixz="0.0"  izz="0.001"  ixy="0.0" />
    </inertial>
    <visual >
     <origin  rpy="0 0 0"  xyz="0 0 0.02" />
     <geometry >
      <box  size="0.002 0.002 0.04" />
     </geometry>
     <material  name="white" />
    </visual>
    <collision >
     <origin  rpy="0 0 0"  xyz="0 0 0.02" />
     <geometry >
      <box  size="0.002 0.002 0.04" />
     </geometry>
     <material  name="white" />
    </collision>
   </link>
   <link  name="parallel_22_leg2" >
    <inertial >
     <mass  value="0.01" />
     <inertia  iyz="0.0"  iyy="0.001"  ixx="0.001"  ixz="0.0"  izz="0.001"  ixy="0.0" />
    </inertial>
    <visual >
     <origin  rpy="0 0 0"  xyz="0 0 0.02" />
     <geometry >
      <box  size="0.002 0.002 0.04" />
     </geometry>
     <material  name="white" />
    </visual>
    <collision >
     <origin  rpy="0 0 0"  xyz="0 0 0.02" />
     <geometry >
      <box  size="0.002 0.002 0.04" />
     </geometry>
     <material  name="white" />
    </collision>
   </link>
   <joint  name="bar_joint_31"  type="fixed" >
    <parent  link="motor_link_3" />
    <child  link="bar_link_31" />
    <origin  rpy="1.5707963267948966 0 1.5707963267948966"  xyz="0 0 0.02" />
   </joint>
   <link  name="bar_link_31" >
    <inertial >
     <mass  value="0.01" />
     <inertia  iyz="0.0"  iyy="0.001"  ixx="0.001"  ixz="0.0"  izz="0.001"  ixy="0.0" />
    </inertial>
    <visual >
     <origin  rpy="0 0 0"  xyz="0 0 0.0" />
     <geometry >
      <cylinder  radius="0.001"  length="0.046215780690822966" />
     </geometry>
     <material  name="Grey" />
    </visual>
    <collision >
     <origin  rpy="0 0 0"  xyz="0 0 0.0" />
     <geometry >
      <cylinder  radius="0.001"  length="0.046215780690822966" />
     </geometry>
     <material  name="Grey" />
    </collision>
   </link>
   <joint  name="parallel_31_kneejoint"  type="revolute" >
    <axis  xyz="1 0 0" />
    <limit  velocity="1"  effort="100"  lower="-3.141592653589793"  upper="3.141592653589793" />
    <parent  link="bar_link_31" />
    <child  link="parallel_31_knee" />
    <origin  rpy="-1.5707963267948966 -1.8325957145940461 0"  xyz="0 0 -0.023107890345411483" />
   </joint>
   <link  name="parallel_31_knee" >
    <inertial >
     <mass  value="0.01" />
     <inertia  iyz="0.0"  iyy="0.001"  ixx="0.001"  ixz="0.0"  izz="0.001"  ixy="0.0" />
    </inertial>
    <visual >
     <origin  rpy="0 1.5707963267948966 0"  xyz="0 0 0" />
     <geometry >
      <cylinder  radius="0.001"  length="0.015" />
     </geometry>
     <material  name="Red" />
    </visual>
    <collision >
     <origin  rpy="0 1.5707963267948966 0"  xyz="0 0 0" />
     <geometry >
      <cylinder  radius="0.001"  length="0.015" />
     </geometry>
     <material  name="Red" />
    </collision>
   </link>
   <joint  name="parallel_31_legjoint1"  type="revolute" >
    <axis  xyz="0 1 0" />
    <limit  velocity="1"  effort="100"  lower="-1.5707963267948966"  upper="1.5707963267948966" />
    <parent  link="parallel_31_knee" />
    <child  link="parallel_31_leg1" />
    <origin  rpy="0 0 0"  xyz="-0.005 0 0" />
   </joint>
   <joint  name="parallel_31_legjoint2"  type="revolute" >
    <axis  xyz="0 1 0" />
    <limit  velocity="1"  effort="100"  lower="-1.5707963267948966"  upper="1.5707963267948966" />
    <parent  link="parallel_31_knee" />
    <child  link="parallel_31_leg2" />
    <origin  rpy="0 0 0"  xyz="0.005 0 0" />
   </joint>
   <link  name="parallel_31_leg1" >
    <inertial >
     <mass  value="0.01" />
     <inertia  iyz="0.0"  iyy="0.001"  ixx="0.001"  ixz="0.0"  izz="0.001"  ixy="0.0" />
    </inertial>
    <visual >
     <origin  rpy="0 0 0"  xyz="0 0 0.02" />
     <geometry >
      <box  size="0.002 0.002 0.04" />
     </geometry>
     <material  name="white" />
    </visual>
    <collision >
     <origin  rpy="0 0 0"  xyz="0 0 0.02" />
     <geometry >
      <box  size="0.002 0.002 0.04" />
     </geometry>
     <material  name="white" />
    </collision>
   </link>
   <link  name="parallel_31_leg2" >
    <inertial >
     <mass  value="0.01" />
     <inertia  iyz="0.0"  iyy="0.001"  ixx="0.001"  ixz="0.0"  izz="0.001"  ixy="0.0" />
    </inertial>
    <visual >
     <origin  rpy="0 0 0"  xyz="0 0 0.02" />
     <geometry >
      <box  size="0.002 0.002 0.04" />
     </geometry>
     <material  name="white" />
    </visual>
    <collision >
     <origin  rpy="0 0 0"  xyz="0 0 0.02" />
     <geometry >
      <box  size="0.002 0.002 0.04" />
     </geometry>
     <material  name="white" />
    </collision>
   </link>
   <joint  name="parallel_32_kneejoint"  type="revolute" >
    <axis  xyz="1 0 0" />
    <limit  velocity="1"  effort="100"  lower="-3.141592653589793"  upper="3.141592653589793" />
    <parent  link="bar_link_31" />
    <child  link="parallel_32_knee" />
    <origin  rpy="-1.5707963267948966 -1.3089969389957472 0"  xyz="0 0 0.023107890345411483" />
   </joint>
   <link  name="parallel_32_knee" >
    <inertial >
     <mass  value="0.01" />
     <inertia  iyz="0.0"  iyy="0.001"  ixx="0.001"  ixz="0.0"  izz="0.001"  ixy="0.0" />
    </inertial>
    <visual >
     <origin  rpy="0 1.5707963267948966 0"  xyz="0 0 0" />
     <geometry >
      <cylinder  radius="0.001"  length="0.015" />
     </geometry>
     <material  name="Red" />
    </visual>
    <collision >
     <origin  rpy="0 1.5707963267948966 0"  xyz="0 0 0" />
     <geometry >
      <cylinder  radius="0.001"  length="0.015" />
     </geometry>
     <material  name="Red" />
    </collision>
   </link>
   <joint  name="parallel_32_legjoint1"  type="revolute" >
    <axis  xyz="0 1 0" />
    <limit  velocity="1"  effort="100"  lower="-1.5707963267948966"  upper="1.5707963267948966" />
    <parent  link="parallel_32_knee" />
    <child  link="parallel_32_leg1" />
    <origin  rpy="0 0 0"  xyz="-0.005 0 0" />
   </joint>
   <joint  name="parallel_32_legjoint2"  type="revolute" >
    <axis  xyz="0 1 0" />
    <limit  velocity="1"  effort="100"  lower="-1.5707963267948966"  upper="1.5707963267948966" />
    <parent  link="parallel_32_knee" />
    <child  link="parallel_32_leg2" />
    <origin  rpy="0 0 0"  xyz="0.005 0 0" />
   </joint>
   <link  name="parallel_32_leg1" >
    <inertial >
     <mass  value="0.01" />
     <inertia  iyz="0.0"  iyy="0.001"  ixx="0.001"  ixz="0.0"  izz="0.001"  ixy="0.0" />
    </inertial>
    <visual >
     <origin  rpy="0 0 0"  xyz="0 0 0.02" />
     <geometry >
      <box  size="0.002 0.002 0.04" />
     </geometry>
     <material  name="white" />
    </visual>
    <collision >
     <origin  rpy="0 0 0"  xyz="0 0 0.02" />
     <geometry >
      <box  size="0.002 0.002 0.04" />
     </geometry>
     <material  name="white" />
    </collision>
   </link>
   <link  name="parallel_32_leg2" >
    <inertial >
     <mass  value="0.01" />
     <inertia  iyz="0.0"  iyy="0.001"  ixx="0.001"  ixz="0.0"  izz="0.001"  ixy="0.0" />
    </inertial>
    <visual >
     <origin  rpy="0 0 0"  xyz="0 0 0.02" />
     <geometry >
      <box  size="0.002 0.002 0.04" />
     </geometry>
     <material  name="white" />
    </visual>
    <collision >
     <origin  rpy="0 0 0"  xyz="0 0 0.02" />
     <geometry >
      <box  size="0.002 0.002 0.04" />
     </geometry>
     <material  name="white" />
    </collision>
   </link>
   <joint  name="bar_joint_41"  type="fixed" >
    <parent  link="motor_link_4" />
    <child  link="bar_link_41" />
    <origin  rpy="1.5707963267948966 0 1.5707963267948966"  xyz="0 0 0.02" />
   </joint>
   <link  name="bar_link_41" >
    <inertial >
     <mass  value="0.01" />
     <inertia  iyz="0.0"  iyy="0.001"  ixx="0.001"  ixz="0.0"  izz="0.001"  ixy="0.0" />
    </inertial>
    <visual >
     <origin  rpy="0 0 0"  xyz="0 0 0.0" />
     <geometry >
      <cylinder  radius="0.001"  length="0.046215780690822966" />
     </geometry>
     <material  name="Grey" />
    </visual>
    <collision >
     <origin  rpy="0 0 0"  xyz="0 0 0.0" />
     <geometry >
      <cylinder  radius="0.001"  length="0.046215780690822966" />
     </geometry>
     <material  name="Grey" />
    </collision>
   </link>
   <joint  name="parallel_41_kneejoint"  type="revolute" >
    <axis  xyz="1 0 0" />
    <limit  velocity="1"  effort="100"  lower="-3.141592653589793"  upper="3.141592653589793" />
    <parent  link="bar_link_41" />
    <child  link="parallel_41_knee" />
    <origin  rpy="-1.5707963267948966 -1.8325957145940461 0"  xyz="0 0 -0.023107890345411483" />
   </joint>
   <link  name="parallel_41_knee" >
    <inertial >
     <mass  value="0.01" />
     <inertia  iyz="0.0"  iyy="0.001"  ixx="0.001"  ixz="0.0"  izz="0.001"  ixy="0.0" />
    </inertial>
    <visual >
     <origin  rpy="0 1.5707963267948966 0"  xyz="0 0 0" />
     <geometry >
      <cylinder  radius="0.001"  length="0.015" />
     </geometry>
     <material  name="Red" />
    </visual>
    <collision >
     <origin  rpy="0 1.5707963267948966 0"  xyz="0 0 0" />
     <geometry >
      <cylinder  radius="0.001"  length="0.015" />
     </geometry>
     <material  name="Red" />
    </collision>
   </link>
   <joint  name="parallel_41_legjoint1"  type="revolute" >
    <axis  xyz="0 1 0" />
    <limit  velocity="1"  effort="100"  lower="-1.5707963267948966"  upper="1.5707963267948966" />
    <parent  link="parallel_41_knee" />
    <child  link="parallel_41_leg1" />
    <origin  rpy="0 0 0"  xyz="-0.005 0 0" />
   </joint>
   <joint  name="parallel_41_legjoint2"  type="revolute" >
    <axis  xyz="0 1 0" />
    <limit  velocity="1"  effort="100"  lower="-1.5707963267948966"  upper="1.5707963267948966" />
    <parent  link="parallel_41_knee" />
    <child  link="parallel_41_leg2" />
    <origin  rpy="0 0 0"  xyz="0.005 0 0" />
   </joint>
   <link  name="parallel_41_leg1" >
    <inertial >
     <mass  value="0.01" />
     <inertia  iyz="0.0"  iyy="0.001"  ixx="0.001"  ixz="0.0"  izz="0.001"  ixy="0.0" />
    </inertial>
    <visual >
     <origin  rpy="0 0 0"  xyz="0 0 0.02" />
     <geometry >
      <box  size="0.002 0.002 0.04" />
     </geometry>
     <material  name="white" />
    </visual>
    <collision >
     <origin  rpy="0 0 0"  xyz="0 0 0.02" />
     <geometry >
      <box  size="0.002 0.002 0.04" />
     </geometry>
     <material  name="white" />
    </collision>
   </link>
   <link  name="parallel_41_leg2" >
    <inertial >
     <mass  value="0.01" />
     <inertia  iyz="0.0"  iyy="0.001"  ixx="0.001"  ixz="0.0"  izz="0.001"  ixy="0.0" />
    </inertial>
    <visual >
     <origin  rpy="0 0 0"  xyz="0 0 0.02" />
     <geometry >
      <box  size="0.002 0.002 0.04" />
     </geometry>
     <material  name="white" />
    </visual>
    <collision >
     <origin  rpy="0 0 0"  xyz="0 0 0.02" />
     <geometry >
      <box  size="0.002 0.002 0.04" />
     </geometry>
     <material  name="white" />
    </collision>
   </link>
   <joint  name="parallel_42_kneejoint"  type="revolute" >
    <axis  xyz="1 0 0" />
    <limit  velocity="1"  effort="100"  lower="-3.141592653589793"  upper="3.141592653589793" />
    <parent  link="bar_link_41" />
    <child  link="parallel_42_knee" />
    <origin  rpy="-1.5707963267948966 -1.3089969389957472 0"  xyz="0 0 0.023107890345411483" />
   </joint>
   <link  name="parallel_42_knee" >
    <inertial >
     <mass  value="0.01" />
     <inertia  iyz="0.0"  iyy="0.001"  ixx="0.001"  ixz="0.0"  izz="0.001"  ixy="0.0" />
    </inertial>
    <visual >
     <origin  rpy="0 1.5707963267948966 0"  xyz="0 0 0" />
     <geometry >
      <cylinder  radius="0.001"  length="0.015" />
     </geometry>
     <material  name="Red" />
    </visual>
    <collision >
     <origin  rpy="0 1.5707963267948966 0"  xyz="0 0 0" />
     <geometry >
      <cylinder  radius="0.001"  length="0.015" />
     </geometry>
     <material  name="Red" />
    </collision>
   </link>
   <joint  name="parallel_42_legjoint1"  type="revolute" >
    <axis  xyz="0 1 0" />
    <limit  velocity="1"  effort="100"  lower="-1.5707963267948966"  upper="1.5707963267948966" />
    <parent  link="parallel_42_knee" />
    <child  link="parallel_42_leg1" />
    <origin  rpy="0 0 0"  xyz="-0.005 0 0" />
   </joint>
   <joint  name="parallel_42_legjoint2"  type="revolute" >
    <axis  xyz="0 1 0" />
    <limit  velocity="1"  effort="100"  lower="-1.5707963267948966"  upper="1.5707963267948966" />
    <parent  link="parallel_42_knee" />
    <child  link="parallel_42_leg2" />
    <origin  rpy="0 0 0"  xyz="0.005 0 0" />
   </joint>
   <link  name="parallel_42_leg1" >
    <inertial >
     <mass  value="0.01" />
     <inertia  iyz="0.0"  iyy="0.001"  ixx="0.001"  ixz="0.0"  izz="0.001"  ixy="0.0" />
    </inertial>
    <visual >
     <origin  rpy="0 0 0"  xyz="0 0 0.02" />
     <geometry >
      <box  size="0.002 0.002 0.04" />
     </geometry>
     <material  name="white" />
    </visual>
    <collision >
     <origin  rpy="0 0 0"  xyz="0 0 0.02" />
     <geometry >
      <box  size="0.002 0.002 0.04" />
     </geometry>
     <material  name="white" />
    </collision>
   </link>
   <link  name="parallel_42_leg2" >
    <inertial >
     <mass  value="0.01" />
     <inertia  iyz="0.0"  iyy="0.001"  ixx="0.001"  ixz="0.0"  izz="0.001"  ixy="0.0" />
    </inertial>
    <visual >
     <origin  rpy="0 0 0"  xyz="0 0 0.02" />
     <geometry >
      <box  size="0.002 0.002 0.04" />
     </geometry>
     <material  name="white" />
    </visual>
    <collision >
     <origin  rpy="0 0 0"  xyz="0 0 0.02" />
     <geometry >
      <box  size="0.002 0.002 0.04" />
     </geometry>
     <material  name="white" />
    </collision>
   </link>
   <joint  name="bar_joint_51"  type="fixed" >
    <parent  link="motor_link_5" />
    <child  link="bar_link_51" />
    <origin  rpy="1.5707963267948966 0 1.5707963267948966"  xyz="0 0 0.02" />
   </joint>
   <link  name="bar_link_51" >
    <inertial >
     <mass  value="0.01" />
     <inertia  iyz="0.0"  iyy="0.001"  ixx="0.001"  ixz="0.0"  izz="0.001"  ixy="0.0" />
    </inertial>
    <visual >
     <origin  rpy="0 0 0"  xyz="0 0 0.0" />
     <geometry >
      <cylinder  radius="0.001"  length="0.046215780690822966" />
     </geometry>
     <material  name="Grey" />
    </visual>
    <collision >
     <origin  rpy="0 0 0"  xyz="0 0 0.0" />
     <geometry >
      <cylinder  radius="0.001"  length="0.046215780690822966" />
     </geometry>
     <material  name="Grey" />
    </collision>
   </link>
   <joint  name="parallel_51_kneejoint"  type="revolute" >
    <axis  xyz="1 0 0" />
    <limit  velocity="1"  effort="100"  lower="-3.141592653589793"  upper="3.141592653589793" />
    <parent  link="bar_link_51" />
    <child  link="parallel_51_knee" />
    <origin  rpy="-1.5707963267948966 -1.8325957145940461 0"  xyz="0 0 -0.023107890345411483" />
   </joint>
   <link  name="parallel_51_knee" >
    <inertial >
     <mass  value="0.01" />
     <inertia  iyz="0.0"  iyy="0.001"  ixx="0.001"  ixz="0.0"  izz="0.001"  ixy="0.0" />
    </inertial>
    <visual >
     <origin  rpy="0 1.5707963267948966 0"  xyz="0 0 0" />
     <geometry >
      <cylinder  radius="0.001"  length="0.015" />
     </geometry>
     <material  name="Red" />
    </visual>
    <collision >
     <origin  rpy="0 1.5707963267948966 0"  xyz="0 0 0" />
     <geometry >
      <cylinder  radius="0.001"  length="0.015" />
     </geometry>
     <material  name="Red" />
    </collision>
   </link>
   <joint  name="parallel_51_legjoint1"  type="revolute" >
    <axis  xyz="0 1 0" />
    <limit  velocity="1"  effort="100"  lower="-1.5707963267948966"  upper="1.5707963267948966" />
    <parent  link="parallel_51_knee" />
    <child  link="parallel_51_leg1" />
    <origin  rpy="0 0 0"  xyz="-0.005 0 0" />
   </joint>
   <joint  name="parallel_51_legjoint2"  type="revolute" >
    <axis  xyz="0 1 0" />
    <limit  velocity="1"  effort="100"  lower="-1.5707963267948966"  upper="1.5707963267948966" />
    <parent  link="parallel_51_knee" />
    <child  link="parallel_51_leg2" />
    <origin  rpy="0 0 0"  xyz="0.005 0 0" />
   </joint>
   <link  name="parallel_51_leg1" >
    <inertial >
     <mass  value="0.01" />
     <inertia  iyz="0.0"  iyy="0.001"  ixx="0.001"  ixz="0.0"  izz="0.001"  ixy="0.0" />
    </inertial>
    <visual >
     <origin  rpy="0 0 0"  xyz="0 0 0.02" />
     <geometry >
      <box  size="0.002 0.002 0.04" />
     </geometry>
     <material  name="white" />
    </visual>
    <collision >
     <origin  rpy="0 0 0"  xyz="0 0 0.02" />
     <geometry >
      <box  size="0.002 0.002 0.04" />
     </geometry>
     <material  name="white" />
    </collision>
   </link>
   <link  name="parallel_51_leg2" >
    <inertial >
     <mass  value="0.01" />
     <inertia  iyz="0.0"  iyy="0.001"  ixx="0.001"  ixz="0.0"  izz="0.001"  ixy="0.0" />
    </inertial>
    <visual >
     <origin  rpy="0 0 0"  xyz="0 0 0.02" />
     <geometry >
      <box  size="0.002 0.002 0.04" />
     </geometry>
     <material  name="white" />
    </visual>
    <collision >
     <origin  rpy="0 0 0"  xyz="0 0 0.02" />
     <geometry >
      <box  size="0.002 0.002 0.04" />
     </geometry>
     <material  name="white" />
    </collision>
   </link>
   <joint  name="parallel_52_kneejoint"  type="revolute" >
    <axis  xyz="1 0 0" />
    <limit  velocity="1"  effort="100"  lower="-3.141592653589793"  upper="3.141592653589793" />
    <parent  link="bar_link_51" />
    <child  link="parallel_52_knee" />
    <origin  rpy="-1.5707963267948966 -1.3089969389957472 0"  xyz="0 0 0.023107890345411483" />
   </joint>
   <link  name="parallel_52_knee" >
    <inertial >
     <mass  value="0.01" />
     <inertia  iyz="0.0"  iyy="0.001"  ixx="0.001"  ixz="0.0"  izz="0.001"  ixy="0.0" />
    </inertial>
    <visual >
     <origin  rpy="0 1.5707963267948966 0"  xyz="0 0 0" />
     <geometry >
      <cylinder  radius="0.001"  length="0.015" />
     </geometry>
     <material  name="Red" />
    </visual>
    <collision >
     <origin  rpy="0 1.5707963267948966 0"  xyz="0 0 0" />
     <geometry >
      <cylinder  radius="0.001"  length="0.015" />
     </geometry>
     <material  name="Red" />
    </collision>
   </link>
   <joint  name="parallel_52_legjoint1"  type="revolute" >
    <axis  xyz="0 1 0" />
    <limit  velocity="1"  effort="100"  lower="-1.5707963267948966"  upper="1.5707963267948966" />
    <parent  link="parallel_52_knee" />
    <child  link="parallel_52_leg1" />
    <origin  rpy="0 0 0"  xyz="-0.005 0 0" />
   </joint>
   <joint  name="parallel_52_legjoint2"  type="revolute" >
    <axis  xyz="0 1 0" />
    <limit  velocity="1"  effort="100"  lower="-1.5707963267948966"  upper="1.5707963267948966" />
    <parent  link="parallel_52_knee" />
    <child  link="parallel_52_leg2" />
    <origin  rpy="0 0 0"  xyz="0.005 0 0" />
   </joint>
   <link  name="parallel_52_leg1" >
    <inertial >
     <mass  value="0.01" />
     <inertia  iyz="0.0"  iyy="0.001"  ixx="0.001"  ixz="0.0"  izz="0.001"  ixy="0.0" />
    </inertial>
    <visual >
     <origin  rpy="0 0 0"  xyz="0 0 0.02" />
     <geometry >
      <box  size="0.002 0.002 0.04" />
     </geometry>
     <material  name="white" />
    </visual>
    <collision >
     <origin  rpy="0 0 0"  xyz="0 0 0.02" />
     <geometry >
      <box  size="0.002 0.002 0.04" />
     </geometry>
     <material  name="white" />
    </collision>
   </link>
   <link  name="parallel_52_leg2" >
    <inertial >
     <mass  value="0.01" />
     <inertia  iyz="0.0"  iyy="0.001"  ixx="0.001"  ixz="0.0"  izz="0.001"  ixy="0.0" />
    </inertial>
    <visual >
     <origin  rpy="0 0 0"  xyz="0 0 0.02" />
     <geometry >
      <box  size="0.002 0.002 0.04" />
     </geometry>
     <material  name="white" />
    </visual>
    <collision >
     <origin  rpy="0 0 0"  xyz="0 0 0.02" />
     <geometry >
      <box  size="0.002 0.002 0.04" />
     </geometry>
     <material  name="white" />
    </collision>
   </link>

</robot>
